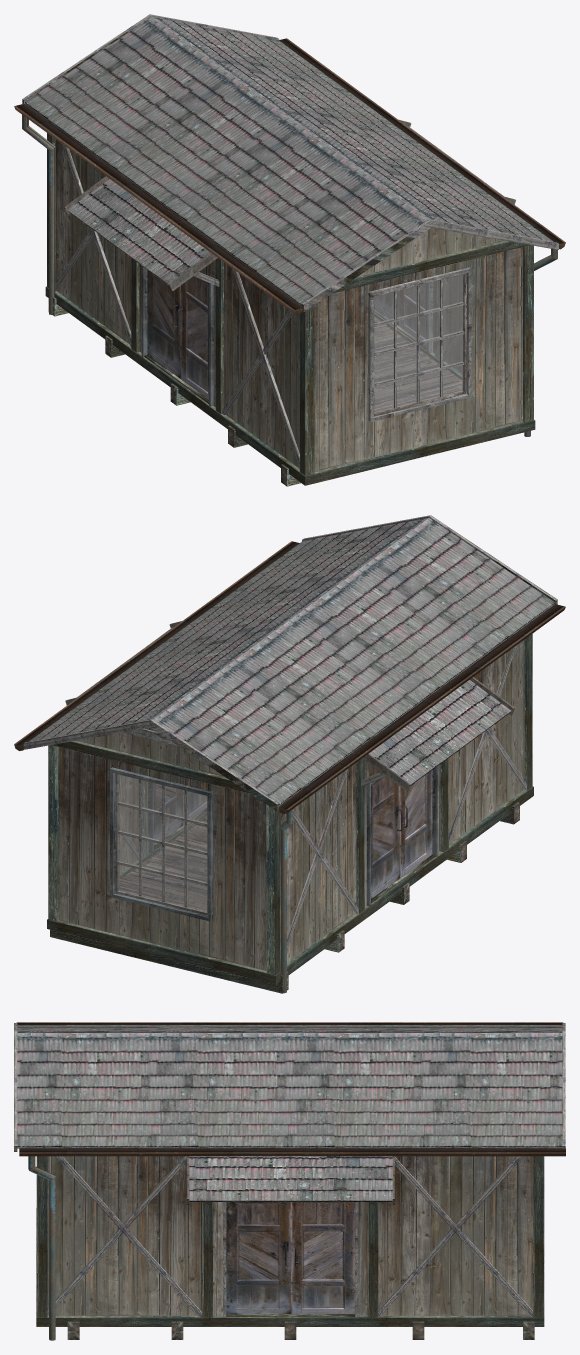
File: wood_depot.FBX
3 renders of one model, top to bottom at view 1: azimuth 30°, elevation 25°; view 2: azimuth 150°, elevation 25°; view 3: azimuth 270°, elevation 25°, orthographic. The views are drawn at different scales.
Parts seen in each view (by area): view 1: wood_depot, window01, stodola_door_A18, stodola_door_A17, stodola_door_A19; view 2: wood_depot, window02, stodola_door_A17, stodola_door_A18, stodola_door_A20; view 3: wood_depot, stodola_door_A20, stodola_door_A19.
Part boxes in pixels (x1,y1,x2,y2): wood_depot: (14, 14, 565, 486); window01: (373, 273, 466, 416); stodola_door_A18: (177, 276, 208, 399); stodola_door_A17: (147, 270, 180, 378); stodola_door_A19: (398, 283, 426, 346); wood_depot: (14, 515, 565, 993); window02: (115, 773, 207, 915); stodola_door_A17: (371, 776, 402, 898); stodola_door_A18: (399, 770, 432, 877); stodola_door_A20: (154, 783, 182, 846); wood_depot: (14, 1022, 565, 1340); stodola_door_A20: (290, 1202, 355, 1313); stodola_door_A19: (226, 1202, 290, 1313).
Bounding box in the file's own units: 78.98 × 111 × 56.23.
